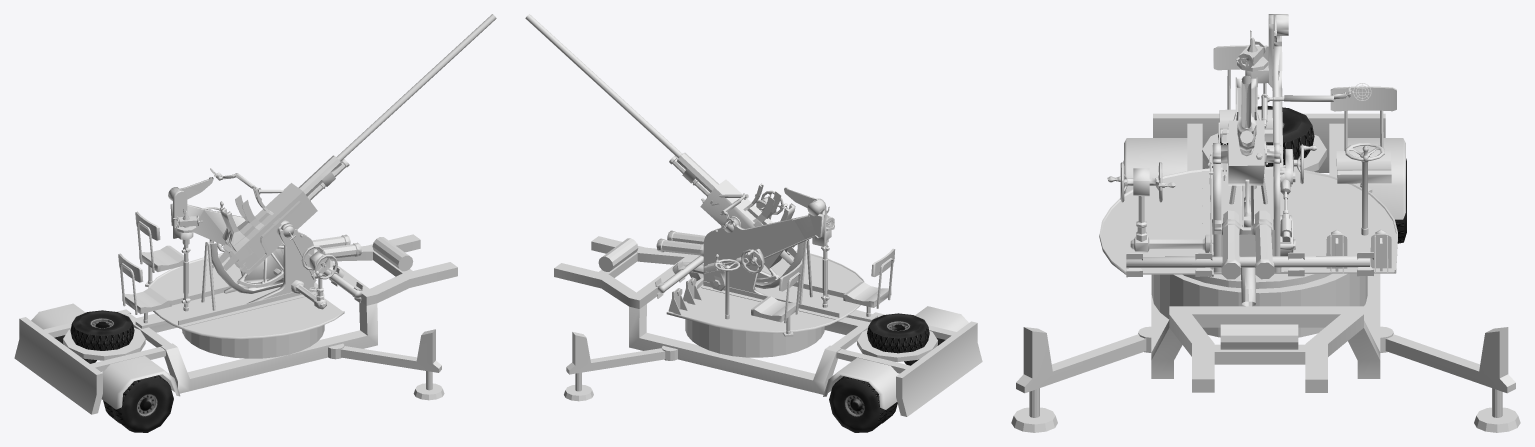
The model's file is gunWScope.fbx.
3 views of the same model, side by side, from view 1: azimuth 30°, elevation 25°; view 2: azimuth 150°, elevation 25°; view 3: azimuth 270°, elevation 25° (orthographic). The views are drawn at different scales.
Parts seen in each view (by area): view 1: Base, Seat, Gun, Wheels, Support, Barrel, MainSeat; view 2: Base, Seat, Wheels, Gun, Support, Barrel, MainSeat; view 3: Seat, Base, Support, MainSeat, Gun, Wheels, Seat.001, Barrel, HorisontalHandle.
Boxes of the visible parts, x1,y1,x2,y2 form: Base: (14,234,457,414); Seat: (118,177,363,339); Gun: (219,155,349,274); Wheels: (54,310,173,432); Support: (182,282,324,358); Barrel: (336,14,496,161); MainSeat: (135,211,188,272); Base: (554,236,982,416); Seat: (655,187,895,336); Wheels: (829,313,945,432); Gun: (669,152,796,268); Support: (685,279,824,357); Barrel: (525,14,681,157); MainSeat: (751,263,802,323); Seat: (1099,14,1397,306); Base: (1011,113,1520,432); Support: (1151,273,1367,337); MainSeat: (1330,86,1396,183); Gun: (1218,76,1269,185); Wheels: (1123,106,1406,243); Seat.001: (1261,87,1350,128); Barrel: (1241,75,1251,128); HorisontalHandle: (1345,142,1384,162).
Size of the model in its own units: 621 by 405 by 417.
